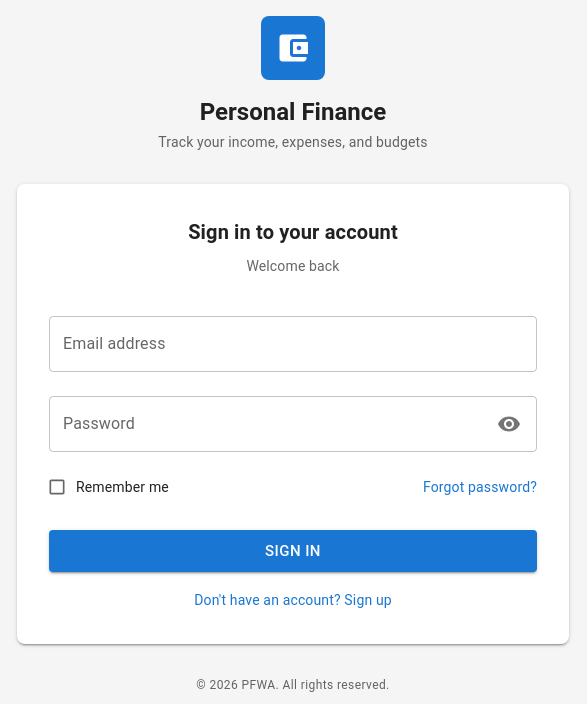
Scenario: LoginPage › should display API error message on login failure
Check: the button "Sign in" is shown, box [49,530,537,572]
Type "user@example.com" into the field labelled "Email address" at (293, 344), box [49,316,537,372]
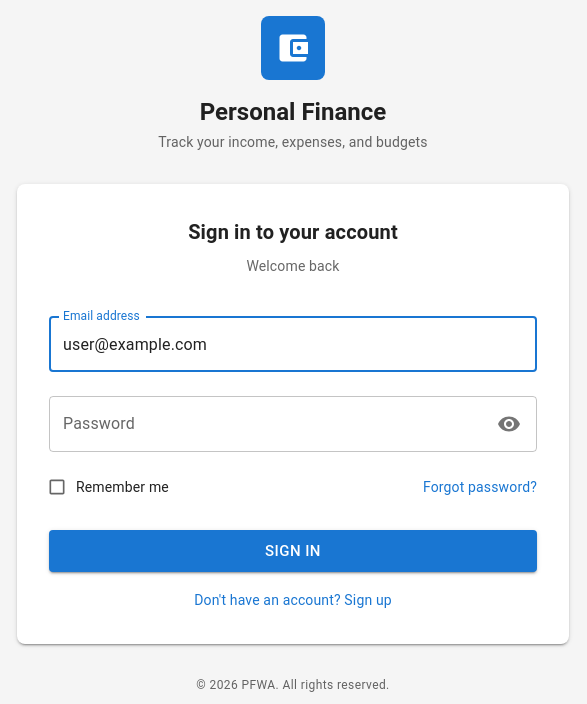
Type "wrongpassword" into the password field labelled "Password" at (266, 424), box [49,396,484,452]
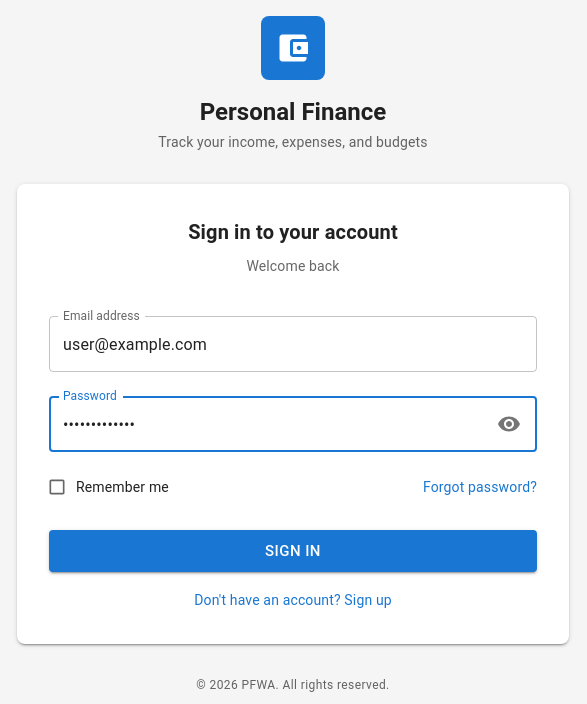
Click the button "Sign in" at (293, 551), box [49,530,537,572]
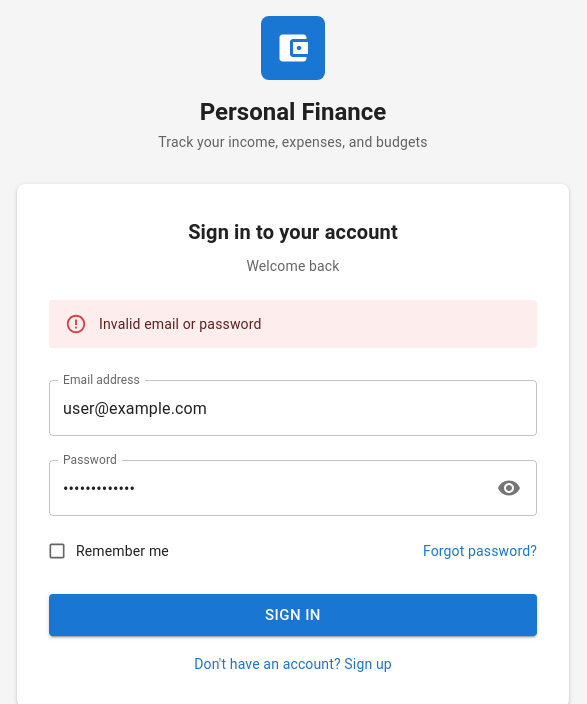
Check: the message reads "Invalid email or password", box [99,316,262,332]
